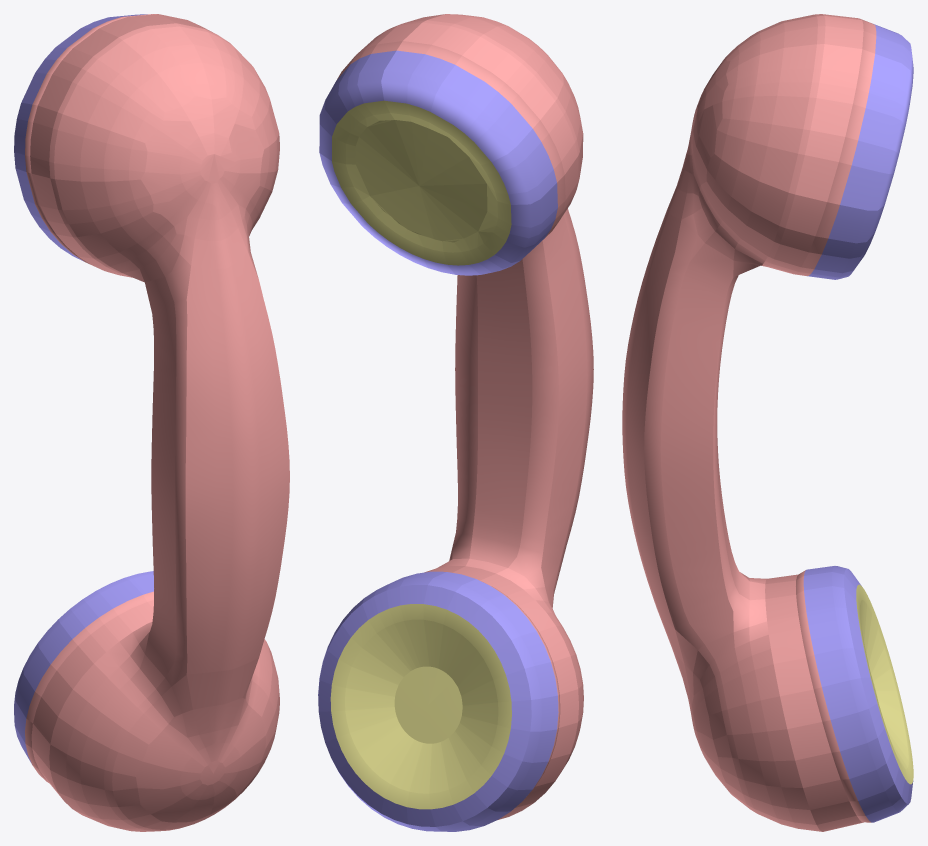
The model's file is Phone.fbx.
The picture shows the model from 3 angles, left to right: view 1: azimuth 30°, elevation 25°; view 2: azimuth 150°, elevation 25°; view 3: azimuth 270°, elevation 25°; orthographic projection.
Visible parts, largest first — view 1: Phone1; view 2: Phone1; view 3: Phone1.
Boxes of the visible parts, x1,y1,x2,y2 form: Phone1: (14, 14, 289, 831); Phone1: (318, 14, 593, 831); Phone1: (622, 14, 913, 831).
Size of the model in its own units: 19.81 by 65.47 by 21.78.
